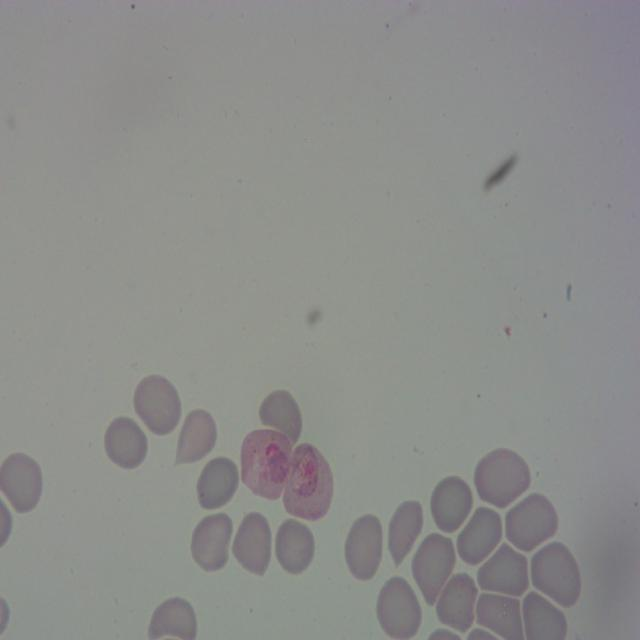gametocyte: (240, 426, 292, 502)
leukocyte: (528, 540, 585, 606), (502, 489, 559, 554), (475, 446, 531, 510), (411, 532, 457, 608), (131, 372, 183, 437), (374, 575, 422, 640), (454, 506, 504, 568), (187, 509, 236, 572), (341, 512, 385, 581), (175, 403, 220, 468), (428, 473, 475, 535), (386, 498, 426, 570), (256, 388, 304, 446), (102, 412, 149, 471), (477, 544, 530, 596), (435, 570, 479, 632), (231, 512, 274, 574), (476, 588, 526, 640), (194, 456, 236, 515), (275, 520, 315, 574)
schizont: (283, 442, 333, 521)
